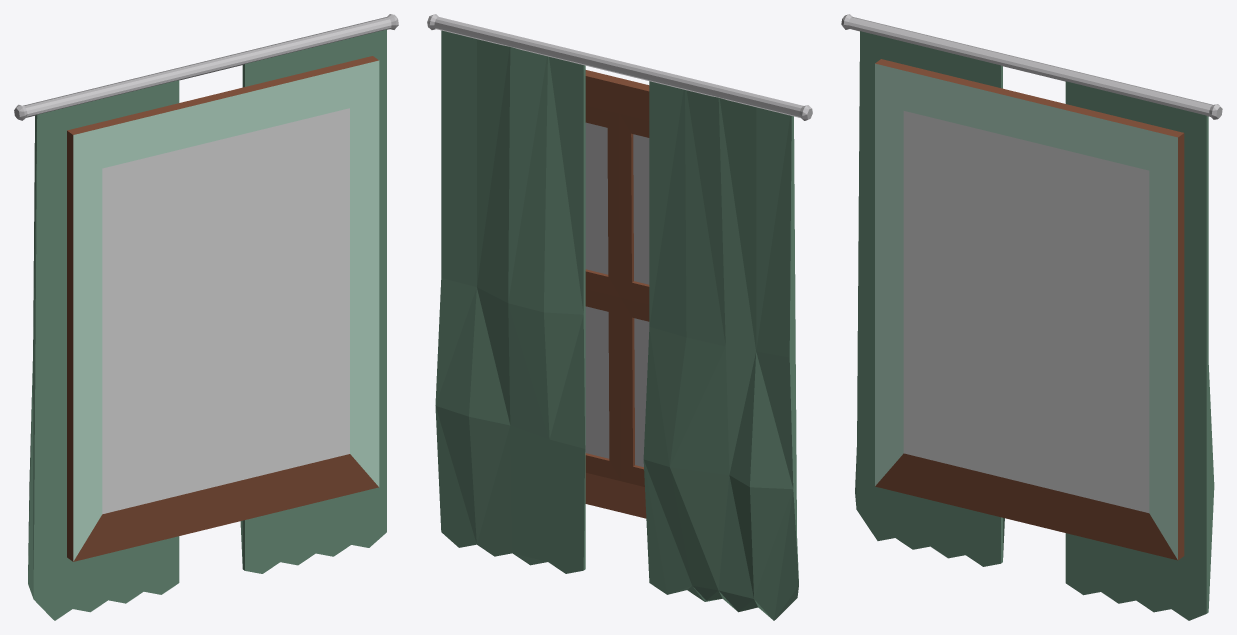
Rendered from windoww.fbx.
3 views of the same model, side by side, from view 1: azimuth 30°, elevation 25°; view 2: azimuth 150°, elevation 25°; view 3: azimuth 330°, elevation 25° (orthographic).
Visible parts, largest first — view 1: group277737901, group1192423041, group1329612974, group2033790762; view 2: group1192423041, group1329612974, group277737901, group2033790762; view 3: group277737901, group1329612974, group1192423041, group2033790762.
Part boxes in pixels (x1=…): group277737901: x1=67, y1=56, x2=379, y2=561; group1192423041: x1=28, y1=80, x2=179, y2=620; group1329612974: x1=240, y1=29, x2=386, y2=573; group2033790762: x1=14, y1=14, x2=398, y2=120; group1192423041: x1=643, y1=81, x2=798, y2=620; group1329612974: x1=435, y1=30, x2=585, y2=573; group277737901: x1=585, y1=70, x2=649, y2=518; group2033790762: x1=427, y1=14, x2=812, y2=120; group277737901: x1=875, y1=59, x2=1184, y2=560; group1329612974: x1=1065, y1=81, x2=1214, y2=620; group1192423041: x1=855, y1=31, x2=1004, y2=566; group2033790762: x1=841, y1=14, x2=1222, y2=119.
Size of the model in its own units: 104 by 138 by 9.
